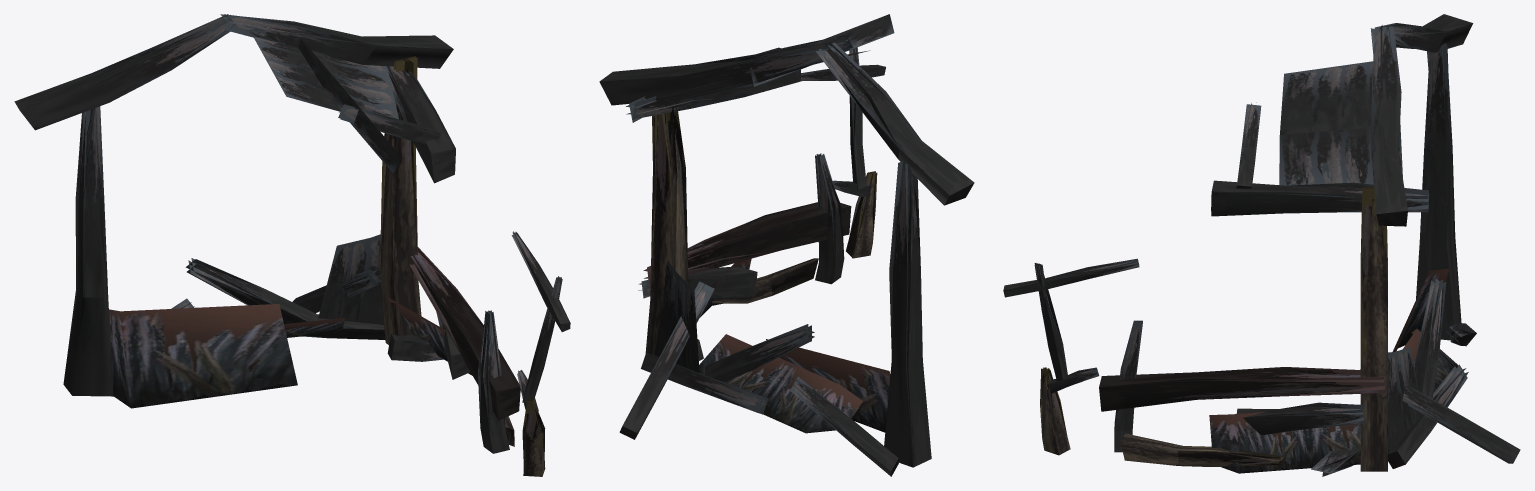
The model's file is burned_half_house.fbx.
3 views of the same model, side by side, from view 1: azimuth 30°, elevation 25°; view 2: azimuth 150°, elevation 25°; view 3: azimuth 270°, elevation 25° (orthographic). The views are drawn at different scales.
Parts seen in each view (by area): view 1: pPlane6, polySurface7, pCube1, polySurface24, polySurface10, polySurface32, polySurface43, polySurface12, polySurface26, pCube10, polySurface42, polySurface31 (+10 smaller); view 2: polySurface7, polySurface10, pCube1, polySurface24, polySurface43, pPlane7, pPlane6, polySurface39, polySurface12, pCube10, polySurface41, polySurface42 (+9 smaller); view 3: polySurface32, polySurface43, polySurface7, pCube1, polySurface10, pPlane4, polySurface26, pCube3, polySurface27, polySurface39, polySurface42, polySurface12 (+11 smaller).
Part boxes in pixels (x1,y1,x2,y2): pPlane6: (109, 304, 297, 408); polySurface7: (63, 106, 113, 396); pCube1: (380, 56, 421, 344); polySurface24: (14, 14, 237, 130); polySurface10: (220, 14, 453, 68); polySurface32: (253, 37, 398, 118); polySurface43: (409, 247, 520, 420); polySurface12: (318, 234, 383, 324); polySurface26: (386, 66, 455, 183); pCube10: (478, 310, 509, 453); polySurface42: (185, 258, 317, 335); polySurface31: (298, 38, 401, 173); polySurface7: (884, 161, 931, 467); polySurface10: (599, 42, 838, 105); pCube1: (645, 106, 688, 355); polySurface24: (816, 42, 974, 205); polySurface43: (643, 202, 851, 287); pPlane7: (699, 334, 862, 433); pPlane6: (766, 339, 890, 432); polySurface39: (619, 281, 714, 439); polySurface12: (655, 260, 699, 373); pCube10: (815, 153, 844, 284); polySurface41: (790, 376, 898, 476); polySurface42: (705, 324, 814, 381); polySurface32: (1279, 61, 1402, 185); polySurface43: (1099, 367, 1386, 411); polySurface7: (1416, 43, 1461, 340); pCube1: (1360, 186, 1387, 471); polySurface10: (1370, 25, 1407, 226); pPlane4: (1209, 411, 1360, 473); polySurface26: (1211, 180, 1429, 216); pCube3: (1120, 433, 1283, 466); polySurface27: (1236, 402, 1364, 435); polySurface39: (1360, 369, 1520, 463); polySurface42: (1414, 278, 1446, 398); polySurface12: (1388, 347, 1422, 453).
Bounding box in the file's own units: 2168 × 2002 × 2498.
Materials: 1 (1 with a texture image).
